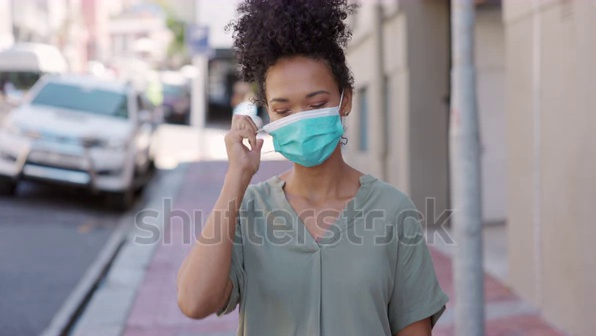Mask: (257, 108, 362, 170)
